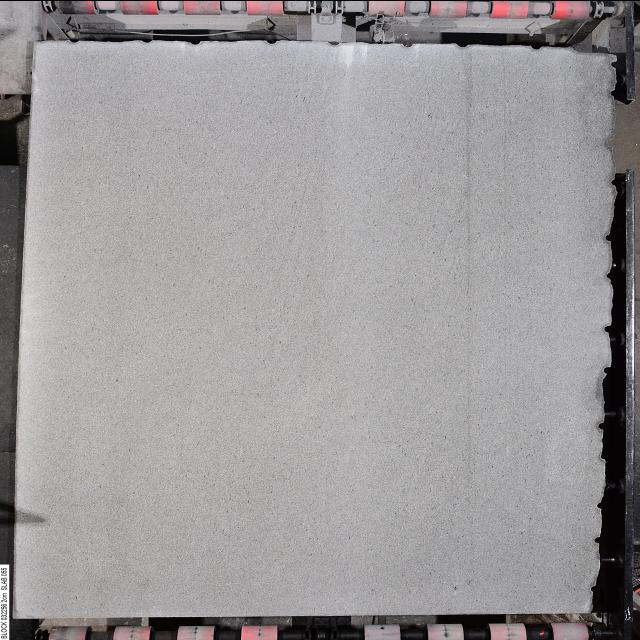chapa: (15, 41, 614, 615)
veio: (592, 533, 606, 545), (602, 363, 614, 375), (602, 323, 615, 334), (610, 59, 622, 69), (598, 420, 608, 430)
